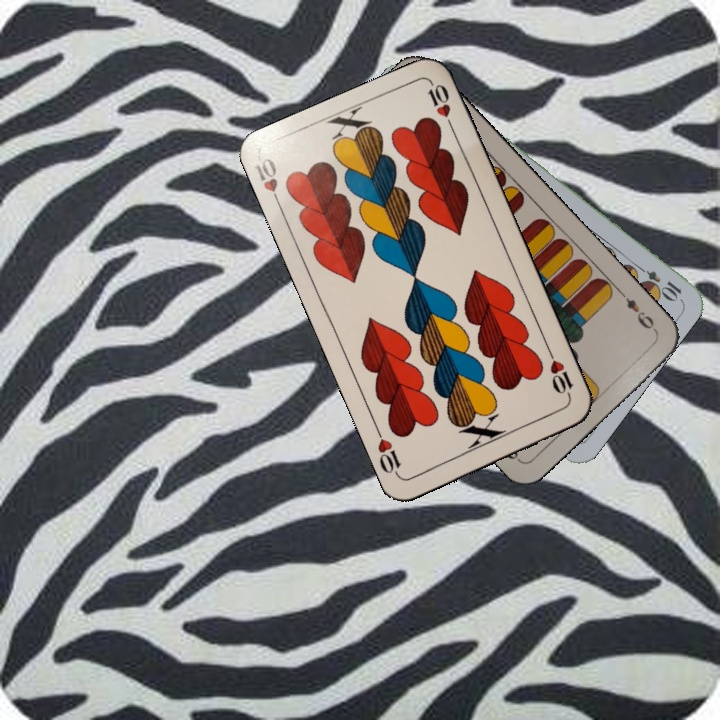E10: (630, 260, 685, 303)
E9: (615, 287, 660, 335)
H10: (251, 154, 285, 212), (544, 346, 576, 403)
